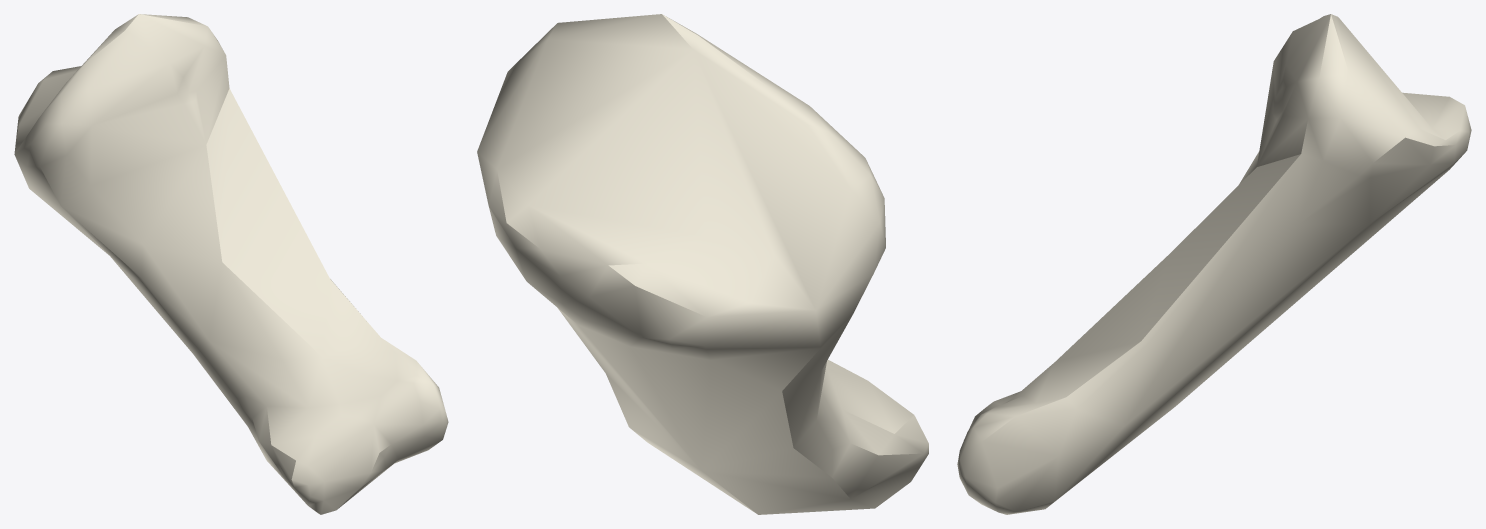
File: fma24455_fj6405.glb
The picture shows the model from 3 angles, left to right: view 1: azimuth 30°, elevation 25°; view 2: azimuth 150°, elevation 25°; view 3: azimuth 270°, elevation 25°; orthographic projection. The views are drawn at different scales.
Parts seen in each view (by area): view 1: FMA24455_FJ6405; view 2: FMA24455_FJ6405; view 3: FMA24455_FJ6405.
Part boxes in pixels (left/top/right/bottom): FMA24455_FJ6405: left=14, top=14, right=448, bottom=514; FMA24455_FJ6405: left=477, top=14, right=928, bottom=514; FMA24455_FJ6405: left=957, top=14, right=1471, bottom=514.
Bounding box in the file's own units: 0.0146 × 0.0205 × 0.0209.
